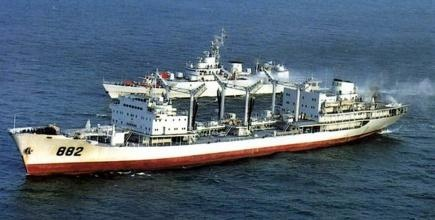Cargoship: (1, 38, 410, 175)
warship: (101, 35, 304, 101)
